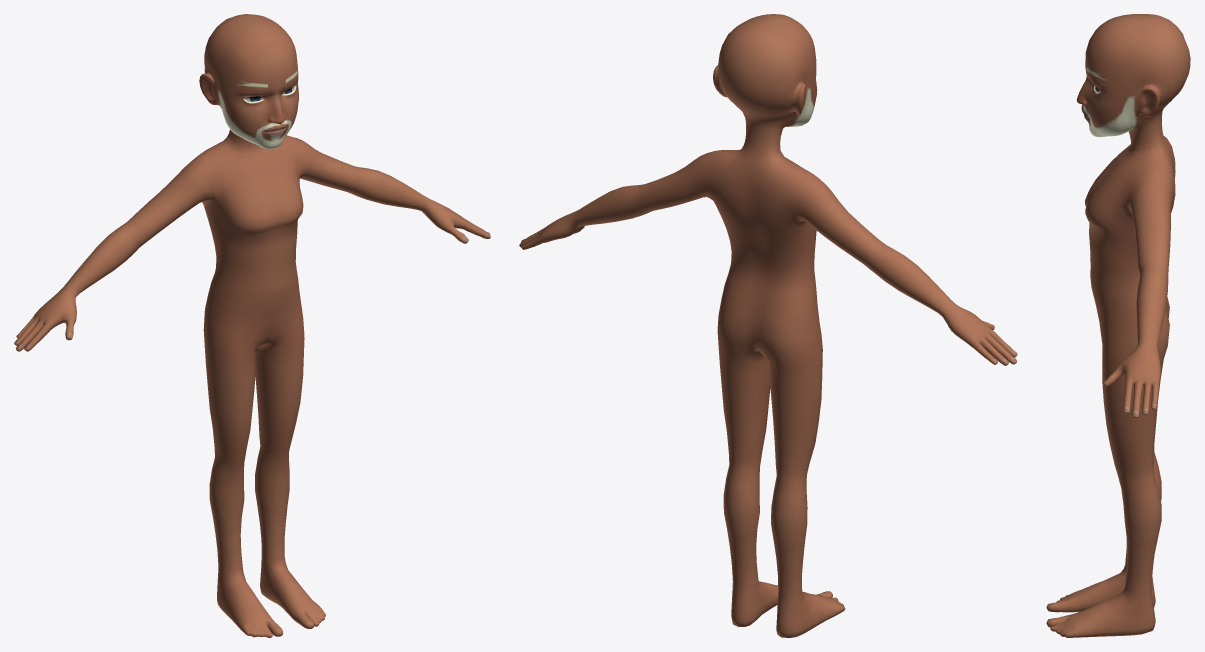
The model's file is frame_0092.glb.
The picture shows the model from 3 angles, left to right: view 1: azimuth 30°, elevation 25°; view 2: azimuth 150°, elevation 25°; view 3: azimuth 270°, elevation 25°; orthographic projection. The views are drawn at different scales.
Visible parts, largest first — view 1: frame_0092_head_geo; view 2: frame_0092_head_geo; view 3: frame_0092_head_geo.
Boxes of the visible parts, x1,y1,x2,y2 form: frame_0092_head_geo: (14,14,490,637); frame_0092_head_geo: (519,14,1017,637); frame_0092_head_geo: (1046,14,1190,637).
Bounding box in the file's own units: 1.28 × 1.5 × 0.3253.
3 materials, 3 textured.
